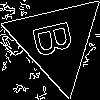B: (31, 16, 83, 60)
